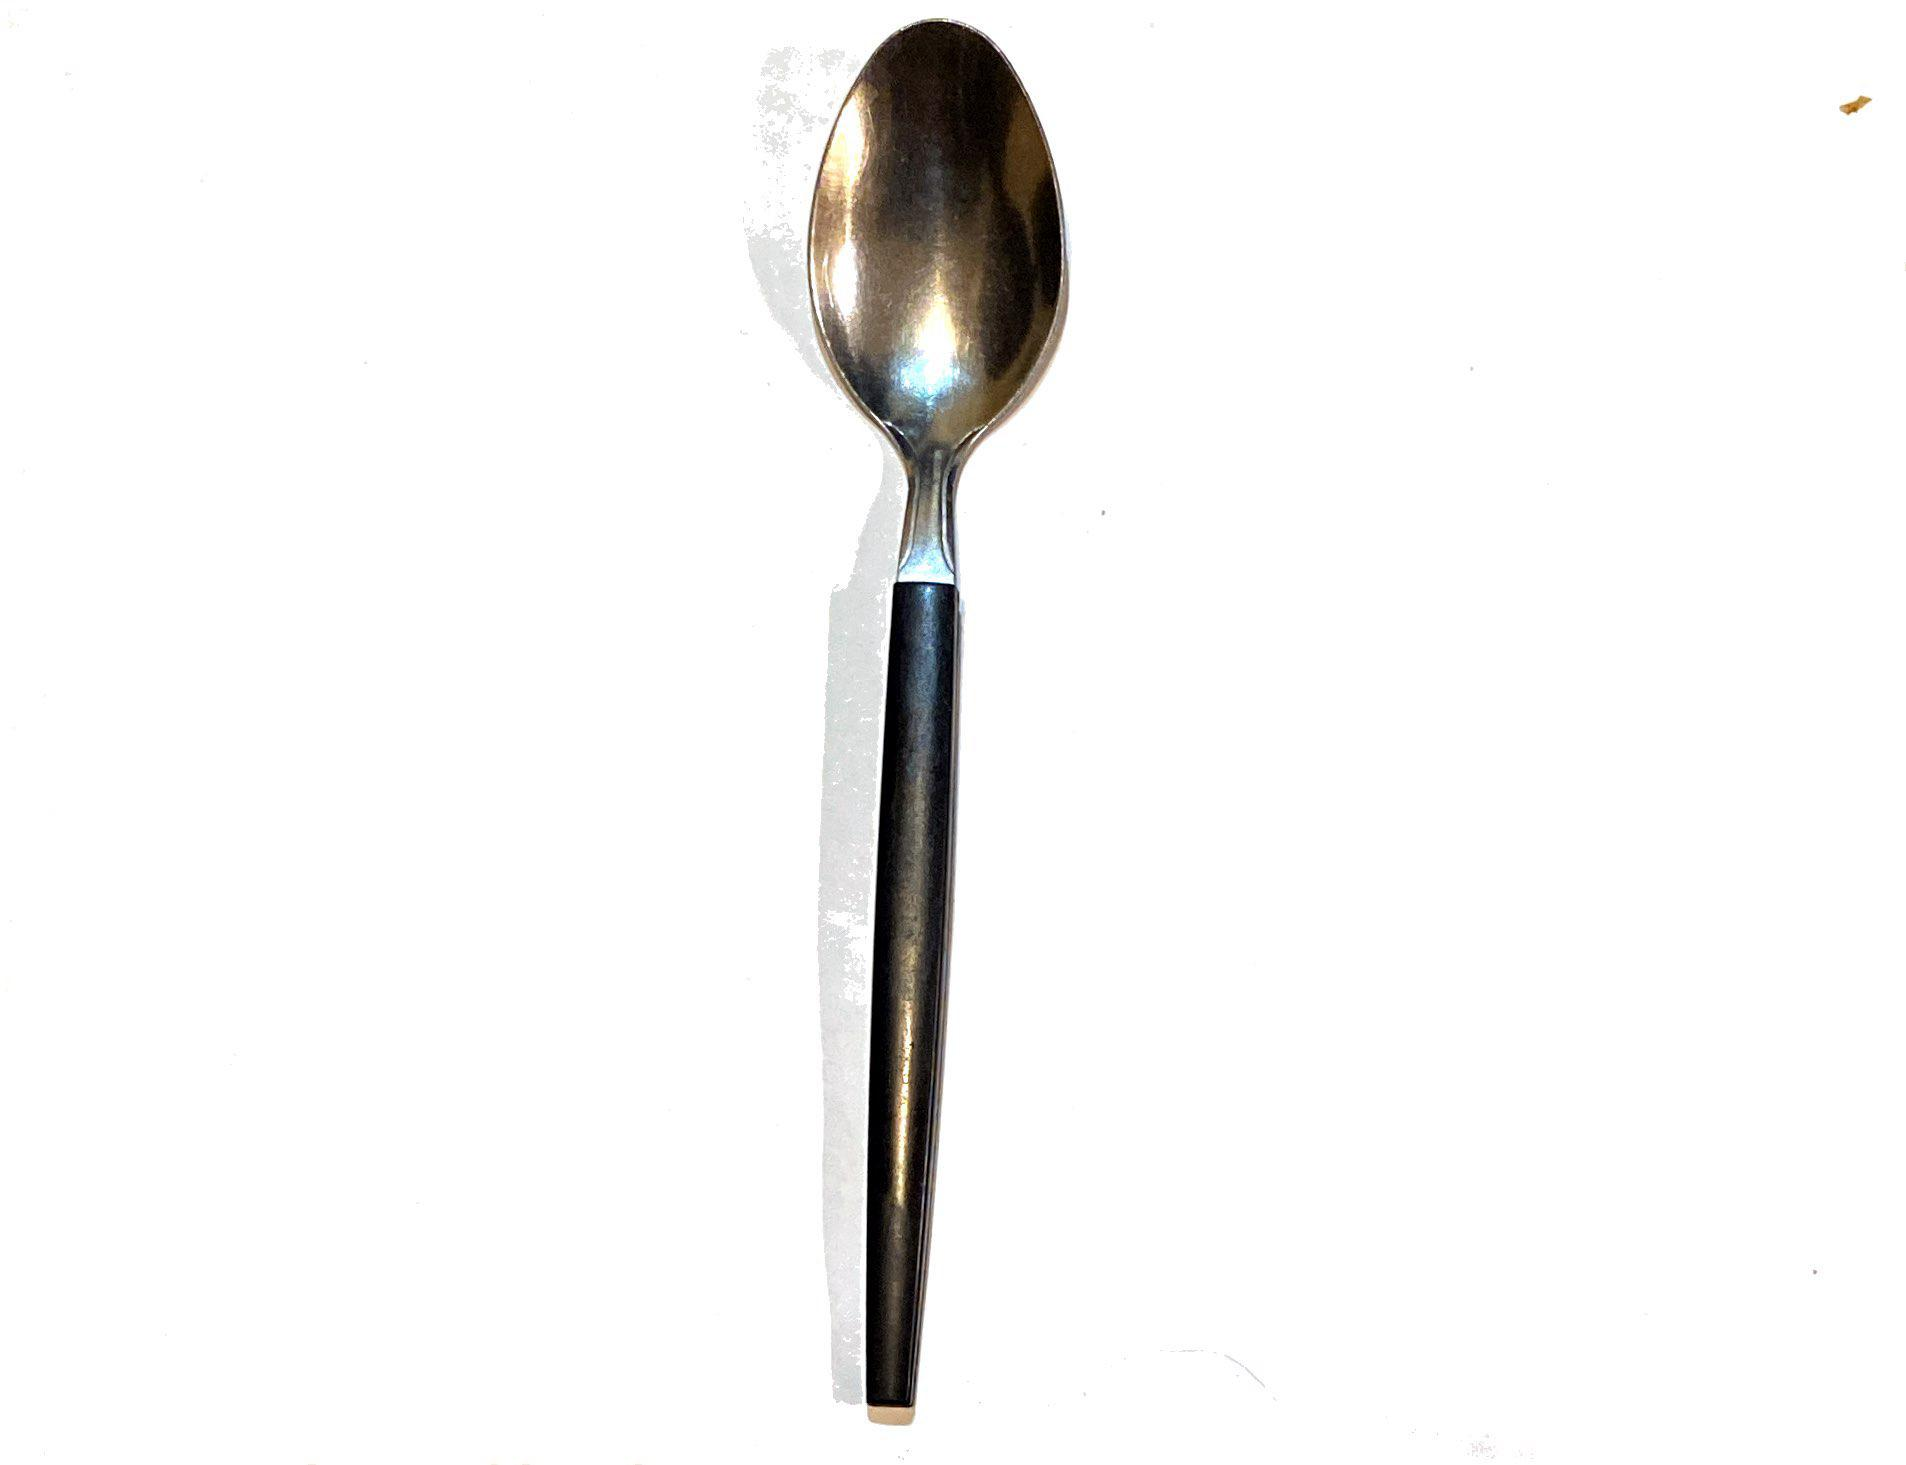Spoon: (763, 5, 1132, 1453)
